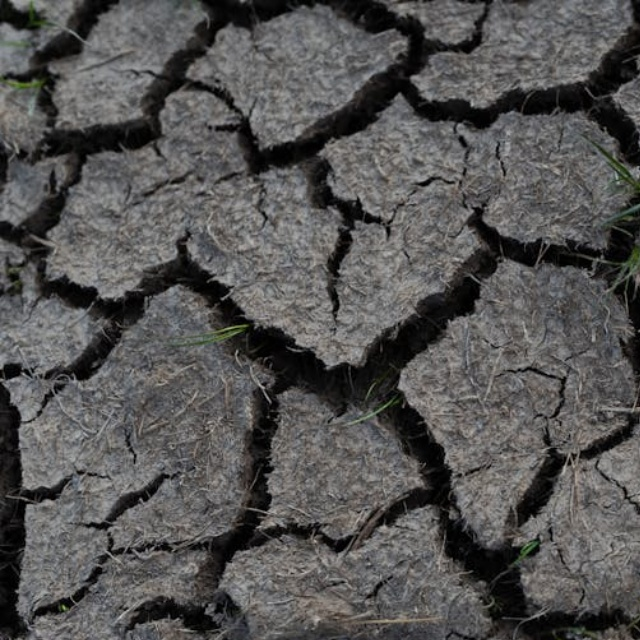深大裂缝: (6, 179, 640, 467), (0, 0, 640, 187), (264, 426, 640, 640)
细微裂纹: (1, 469, 249, 640)
